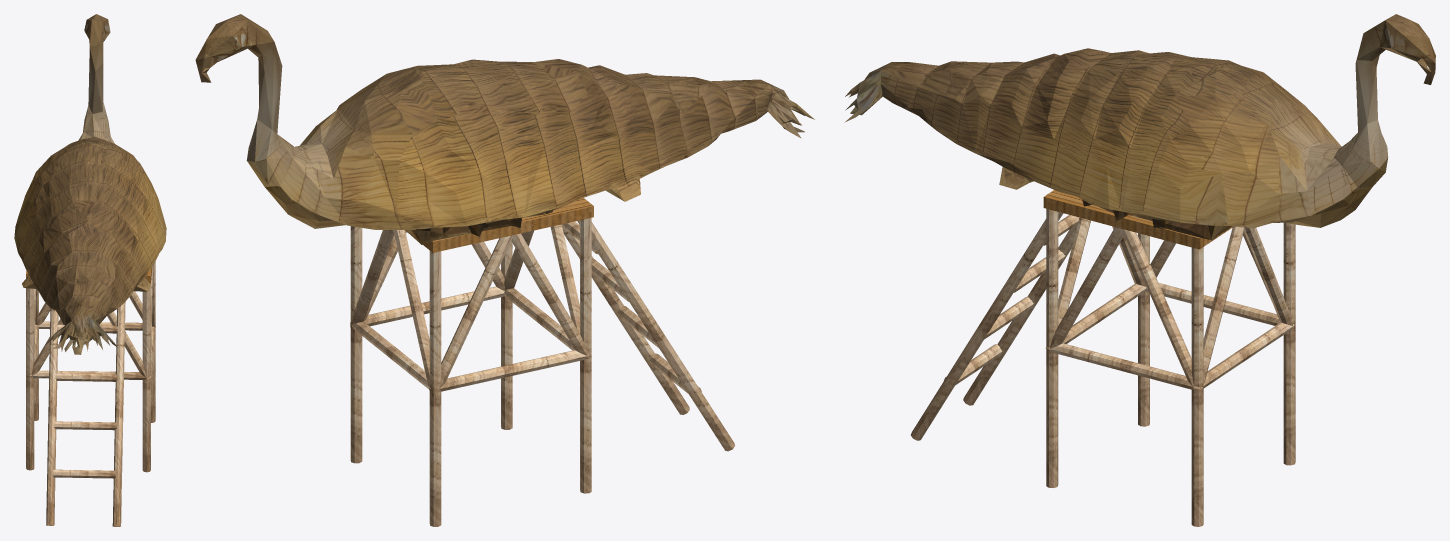
Rendered from flamenco.glb.
3 renders of one model, left to right at view 1: azimuth 30°, elevation 25°; view 2: azimuth 150°, elevation 25°; view 3: azimuth 270°, elevation 25°, orthographic. The views are drawn at different scales.
Visible parts, largest first — view 1: Cylinder; view 2: Cylinder; view 3: Cylinder.
Part boxes in pixels (left/top/right/bottom): Cylinder: left=14, top=14, right=166, bottom=526; Cylinder: left=195, top=14, right=814, bottom=526; Cylinder: left=844, top=14, right=1435, bottom=526.
Bounding box in the file's own units: 3.05 × 4.39 × 4.48.
Materials: 3 (3 with a texture image).
